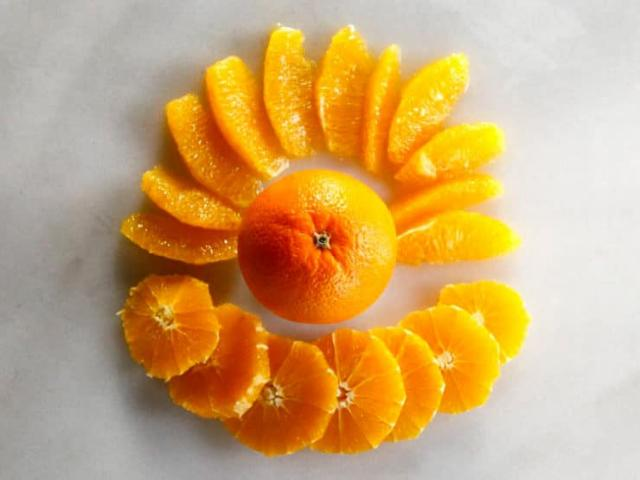Oranges: (238, 168, 396, 324)
